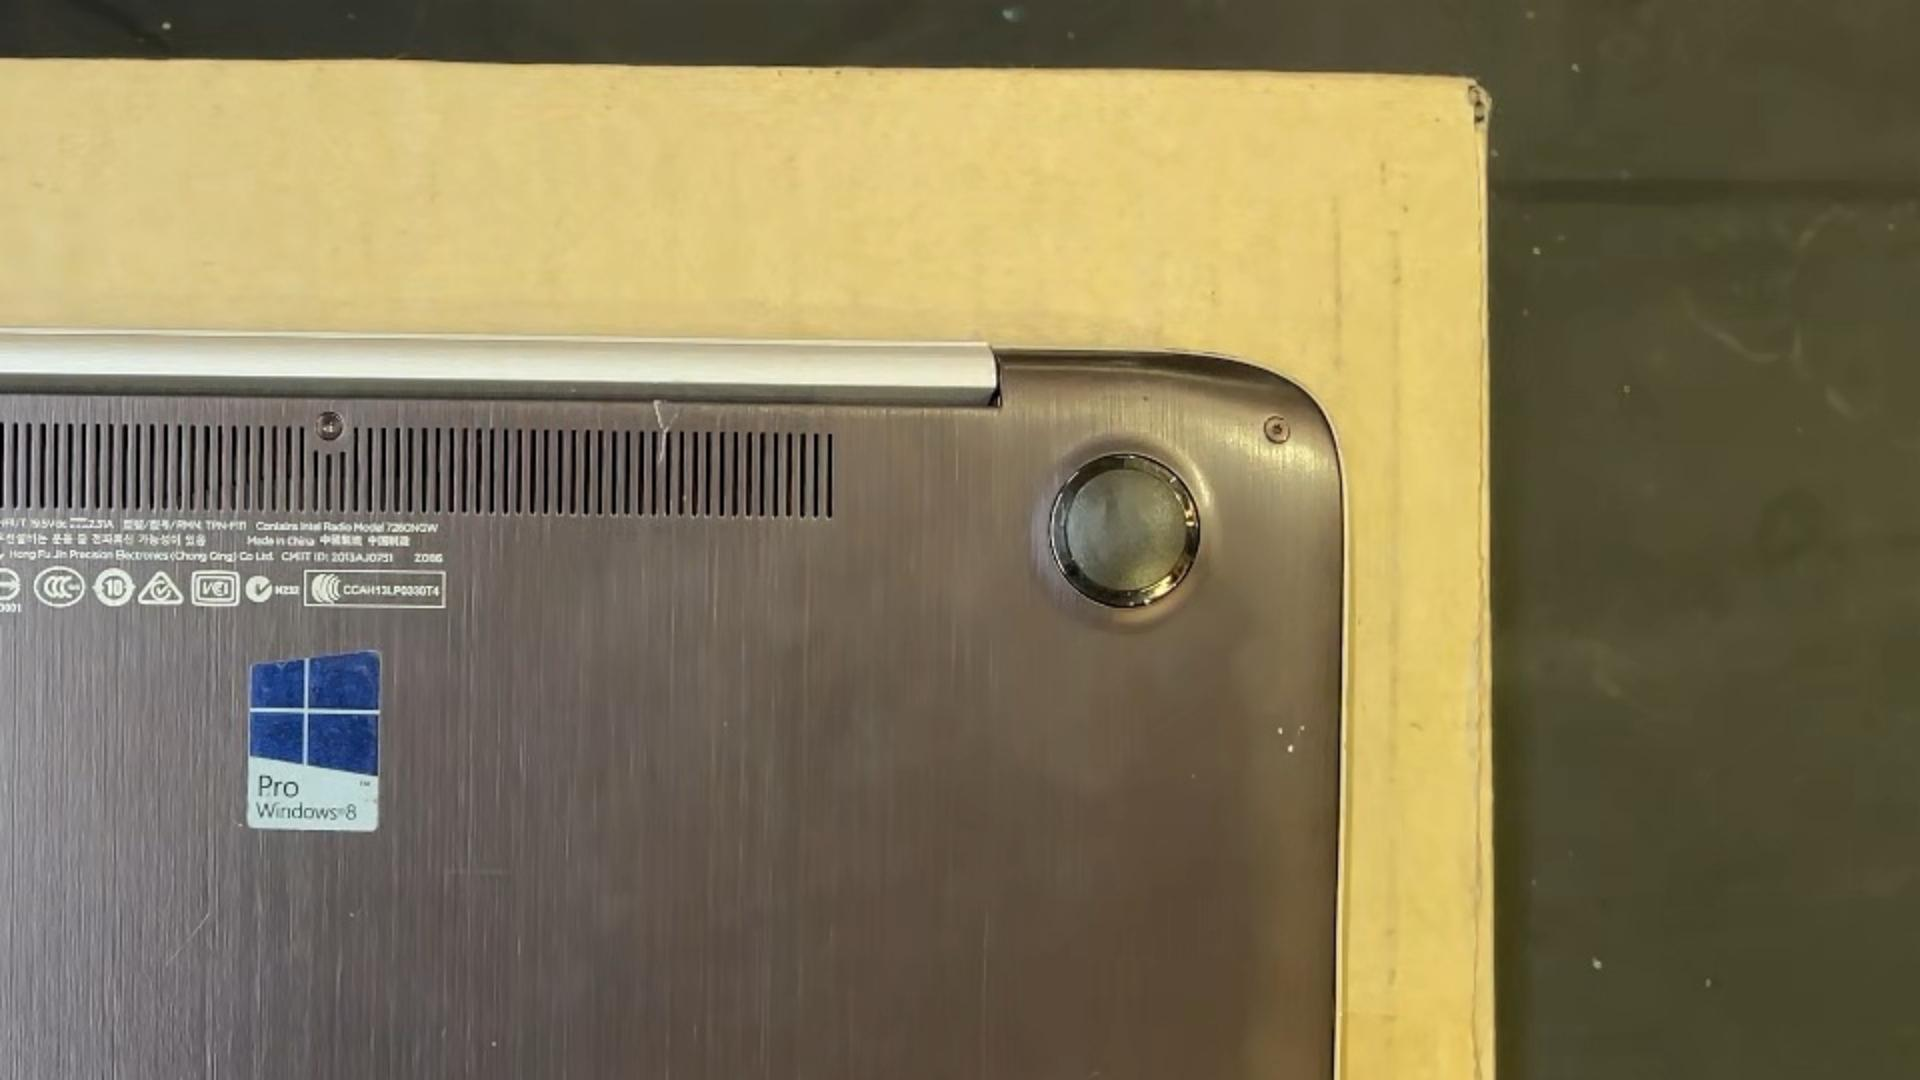chip: (1286, 742, 1296, 754), (1296, 724, 1305, 736), (1276, 727, 1286, 736)
scratches: (651, 397, 682, 467)
